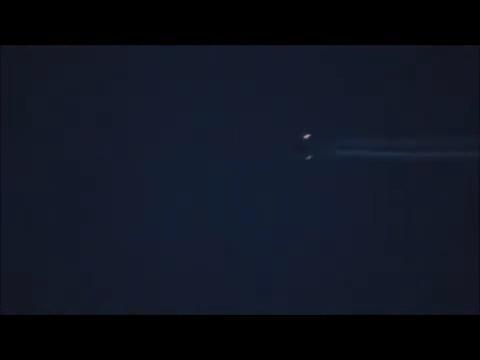Plane: (267, 116, 476, 182)
